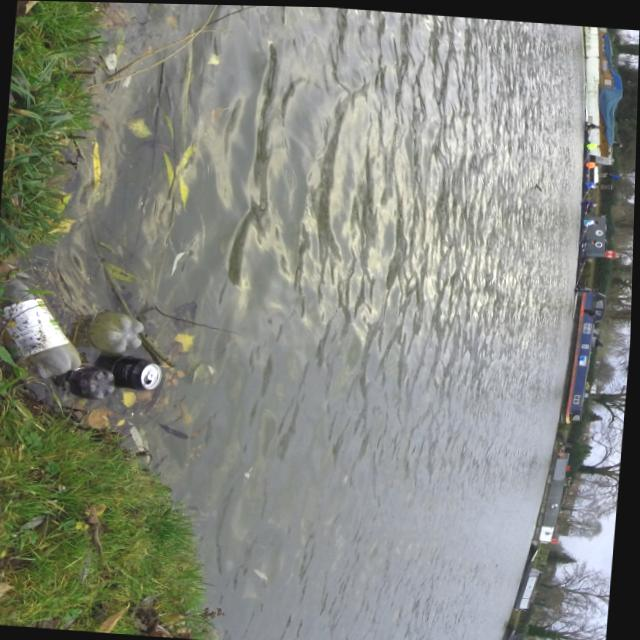Can-Metal: (89, 353, 171, 394)
Plastic: (0, 267, 98, 384), (81, 306, 152, 357), (52, 359, 123, 404)
